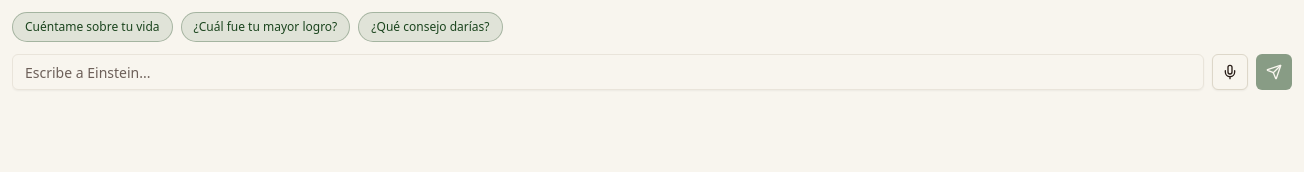
Test case: ChatInput › submit button becomes enabled when the input has text
The width and height of the screenshot is (1304, 172).
In the field: (608, 72) x1=12 y1=54 x2=1204 y2=90, type "Hello"
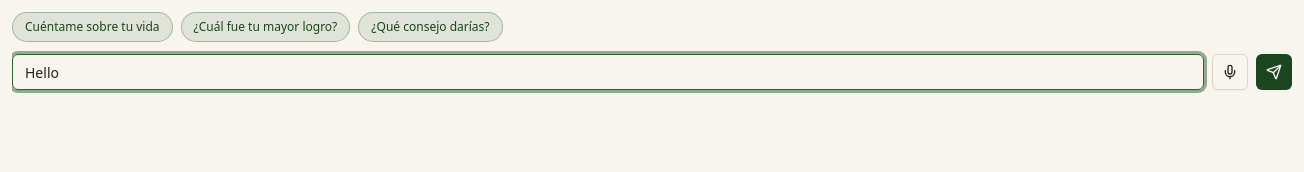
Check: the button named "Enviar mensaje" is enabled, box x1=1256 y1=54 x2=1292 y2=90
